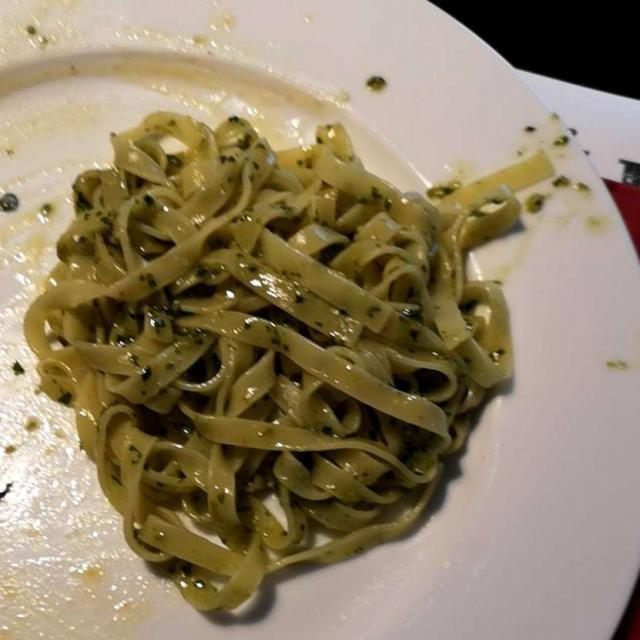pasta: (30, 131, 562, 624)
sauce: (1, 75, 588, 572)
